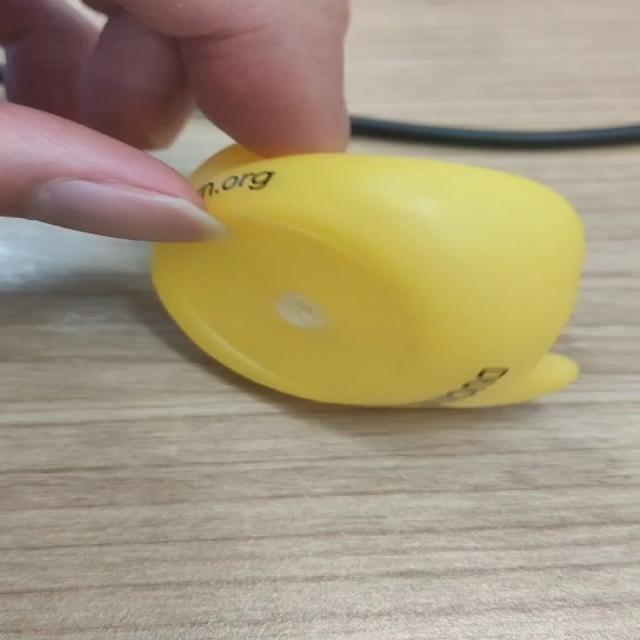rubber-duck: (152, 145, 583, 405)
